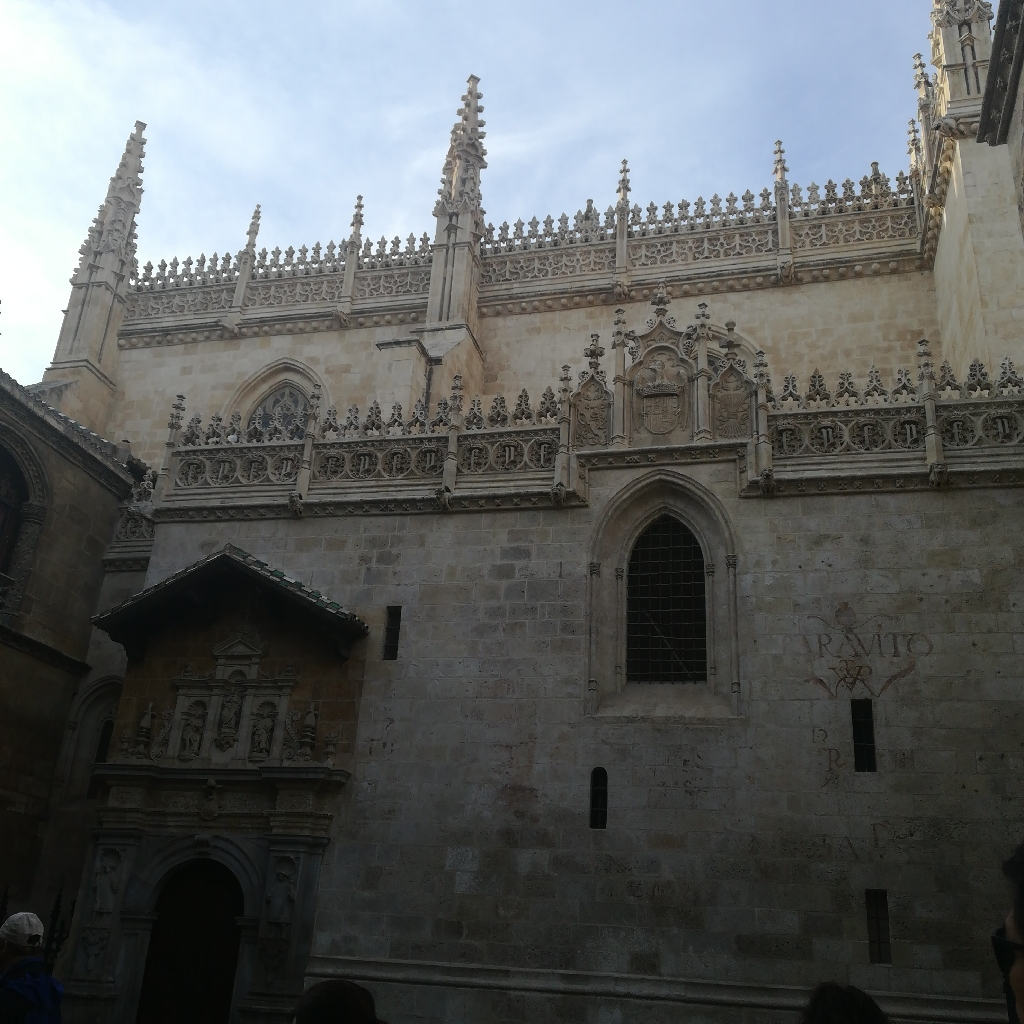arco-apuntado: (587, 470, 735, 563), (227, 357, 330, 418)
fronton: (209, 633, 267, 660)
pinaculo-gotico: (428, 66, 495, 222), (83, 114, 154, 243)
